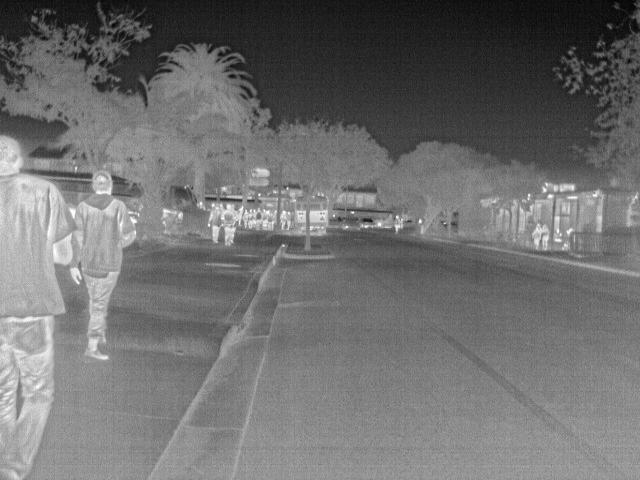car: (163, 202, 189, 234), (360, 216, 376, 228)
person: (1, 131, 77, 478), (69, 168, 135, 360), (206, 204, 225, 246), (222, 204, 239, 248), (529, 220, 545, 252), (277, 207, 291, 232), (286, 205, 299, 231), (540, 223, 552, 251), (392, 211, 406, 235), (552, 225, 568, 242)
